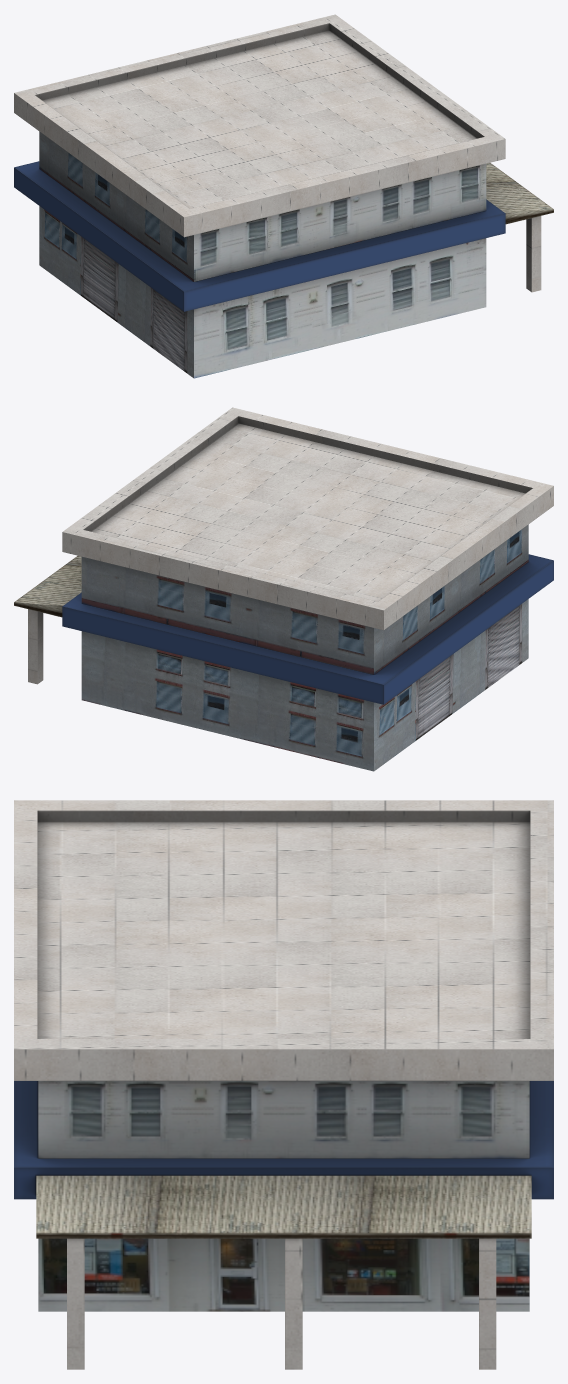
The model's file is newbuild1.fbx.
3 views of the same model, one above another, from view 1: azimuth 30°, elevation 25°; view 2: azimuth 150°, elevation 25°; view 3: azimuth 270°, elevation 25° (orthographic). The views are drawn at different scales.
Parts seen in each view (by area): view 1: Cube.004; view 2: Cube.004; view 3: Cube.004.
Boxes of the visible parts, x1,y1,x2,y2 form: Cube.004: (14,14,553,378); Cube.004: (14,407,553,771); Cube.004: (14,800,553,1369).
Bounding box in the file's own units: 791 × 353 × 619.
